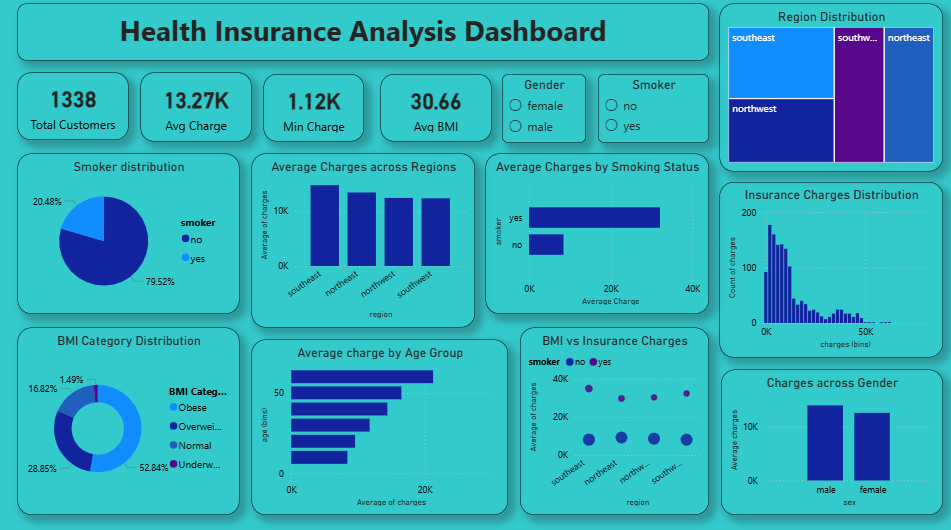

This screenshot's page, from the dashboard's own definition file:
{"tool":"powerbi","page":{"name":"Page 1","canvas":[1280,720],"ordinal":0},"visuals":[{"type":"clusteredBarChart","title":"Average Charges by Smoking Status","fields":{"Y":["Avg(insurance.charges)"],"Category":["insurance.smoker"]},"box":[654,210,298,214],"z":0},{"type":"scatterChart","title":"BMI vs Insurance Charges","fields":{"Y":["Avg(insurance.charges)"],"X":["insurance.region"],"Series":["insurance.smoker"],"Size":["CountNonNull(insurance.age (bins))"]},"box":[700,442,252,250],"z":1},{"type":"donutChart","title":"BMI Category Distribution","fields":{"Y":["CountNonNull(insurance.bmi)"],"Category":["insurance.BMI Category"]},"box":[30,442,296,250],"z":2},{"type":"pieChart","title":"Smoker distribution","fields":{"Category":["insurance.smoker"],"Y":["CountNonNull(insurance.smoker)"]},"box":[30,210,296,214],"z":3},{"type":"clusteredColumnChart","title":"Charges across Gender","fields":{"Category":["insurance.sex"],"Y":["Avg(insurance.charges)"]},"box":[968,498,296,194],"z":4},{"type":"clusteredBarChart","title":"Average charge by Age Group","fields":{"Category":["insurance.age (bins)"],"Y":["Avg(insurance.charges)"]},"box":[342,458,342,234],"z":5},{"type":"clusteredColumnChart","title":"Average Charges across Regions","fields":{"Y":["Avg(insurance.charges)"],"Category":["insurance.region"]},"box":[342,210,298,232],"z":6},{"type":"columnChart","title":"Insurance Charges Distribution","fields":{"Category":["insurance.charges (bins)"],"Y":["CountNonNull(insurance.charges)"]},"box":[966,248,298,234],"z":7},{"type":"treemap","title":"Region Distribution","fields":{"Group":["insurance.region"],"Values":["CountNonNull(insurance.age)"]},"box":[966,10,298,224],"z":8},{"type":"textbox","box":[30,10,922,76],"z":9},{"type":"card","fields":{"Values":["CountNonNull(insurance.age)"]},"box":[30,102,148,90],"z":10},{"type":"card","fields":{"Values":["Avg(insurance.charges)"]},"box":[194,102,148,92],"z":11},{"type":"card","fields":{"Values":["Avg(insurance.bmi)"]},"box":[514,104,148,90],"z":12},{"type":"card","fields":{"Values":["Min(insurance.charges)"]},"box":[358,104,134,90],"z":13},{"type":"listSlicer","title":"Gender","fields":{"Values":["insurance.sex"]},"box":[676,104,112,92],"z":14},{"type":"listSlicer","title":"Smoker","fields":{"Values":["insurance.smoker"]},"box":[804,104,148,92],"z":15}]}

Visuals, with their boxes in screenshot pixels (x1, y1, x2, y2), scaled from the page's 1280x720 canvas onto the 951x530 screenshot:
"Average Charges by Smoking Status" clusteredBarChart: x1=486, y1=155, x2=707, y2=312
"BMI vs Insurance Charges" scatterChart: x1=520, y1=325, x2=707, y2=509
"BMI Category Distribution" donutChart: x1=22, y1=325, x2=242, y2=509
"Smoker distribution" pieChart: x1=22, y1=155, x2=242, y2=312
"Charges across Gender" clusteredColumnChart: x1=719, y1=367, x2=939, y2=509
"Average charge by Age Group" clusteredBarChart: x1=254, y1=337, x2=508, y2=509
"Average Charges across Regions" clusteredColumnChart: x1=254, y1=155, x2=476, y2=325
"Insurance Charges Distribution" columnChart: x1=718, y1=183, x2=939, y2=355
"Region Distribution" treemap: x1=718, y1=7, x2=939, y2=172
textbox: x1=22, y1=7, x2=707, y2=63
card - CountNonNull(insurance.age): x1=22, y1=75, x2=132, y2=141
card - Avg(insurance.charges): x1=144, y1=75, x2=254, y2=143
card - Avg(insurance.bmi): x1=382, y1=77, x2=492, y2=143
card - Min(insurance.charges): x1=266, y1=77, x2=366, y2=143
"Gender" listSlicer: x1=502, y1=77, x2=585, y2=144
"Smoker" listSlicer: x1=597, y1=77, x2=707, y2=144
